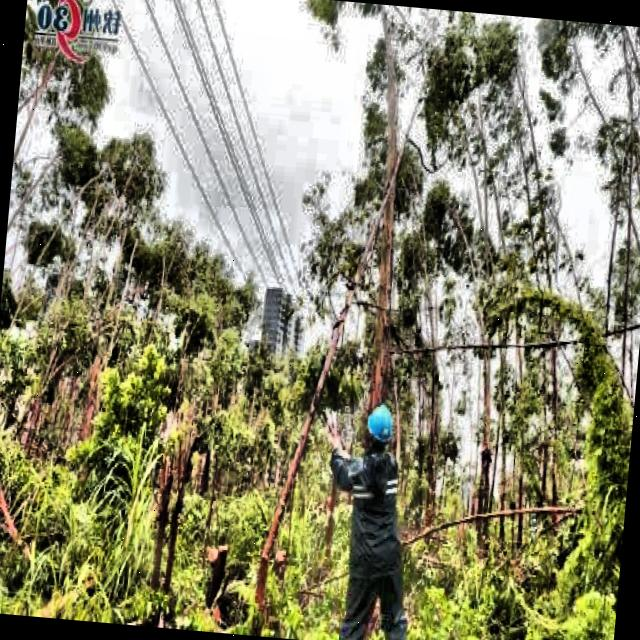helmet: (358, 399, 396, 456)
